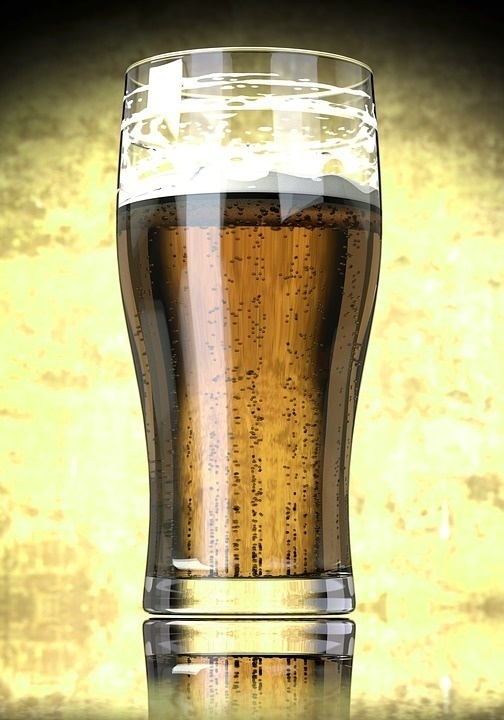whiskey: (100, 68, 372, 636)
